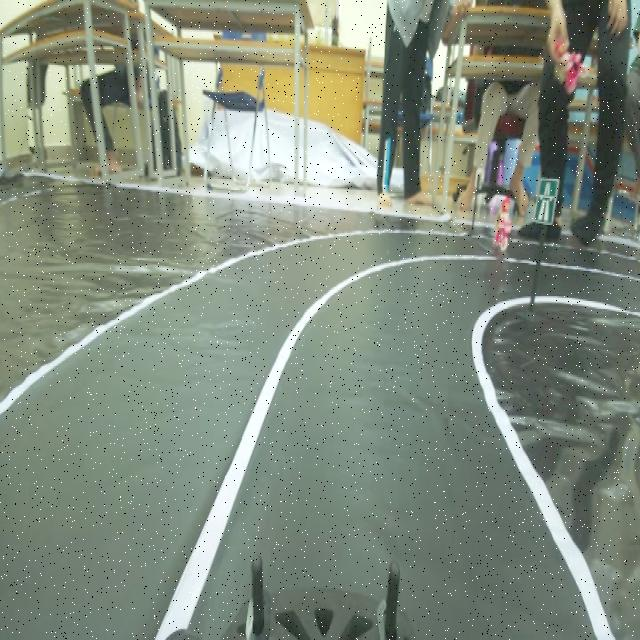highway_entry: (532, 172, 560, 230)
